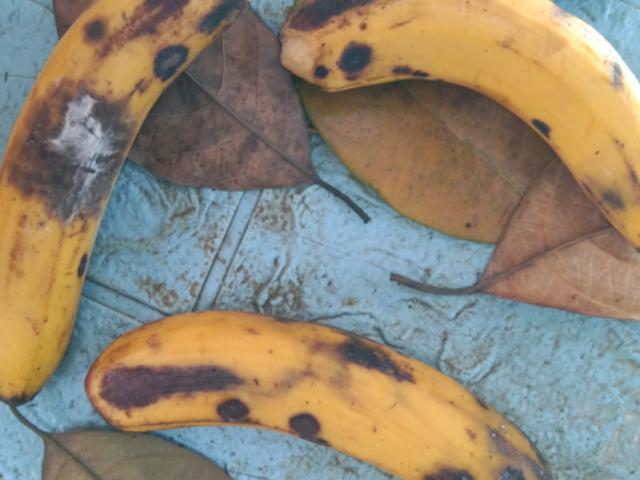overripe: (0, 0, 233, 439), (250, 0, 639, 240), (86, 299, 577, 479)
rotten: (17, 60, 153, 250)
